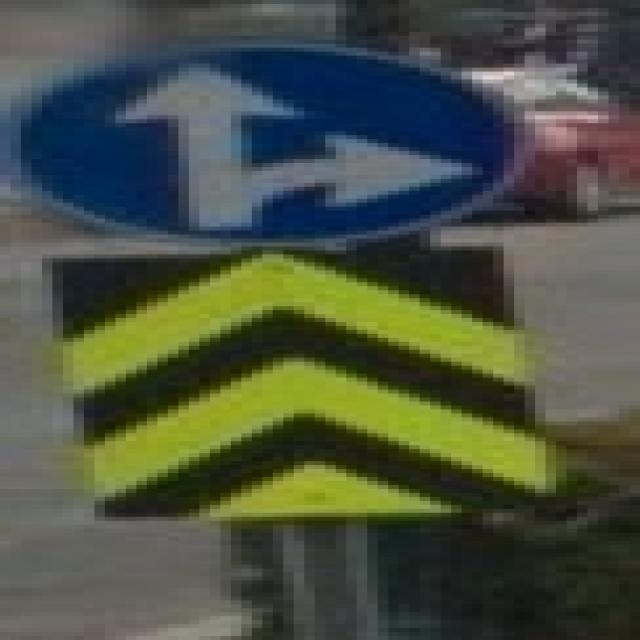Straight or Right: (7, 45, 521, 240)
